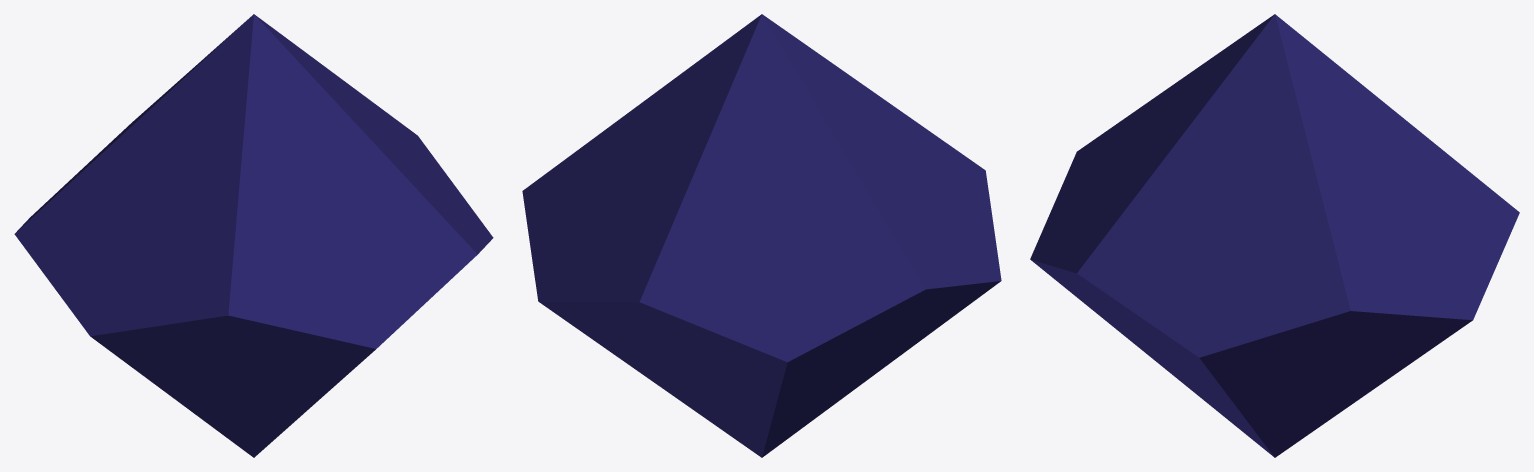
Rendered from dice10phy.glb.
3 views of the same model, side by side, from view 1: azimuth 30°, elevation 25°; view 2: azimuth 150°, elevation 25°; view 3: azimuth 270°, elevation 25° (orthographic).
Visible parts, largest first — view 1: Cone; view 2: Cone; view 3: Cone.
Boxes of the visible parts, x1,y1,x2,y2 form: Cone: [14, 14, 493, 457]; Cone: [522, 14, 1001, 457]; Cone: [1030, 14, 1519, 457].
Bounding box in the file's own units: 7.42 × 7.8 × 7.8.
